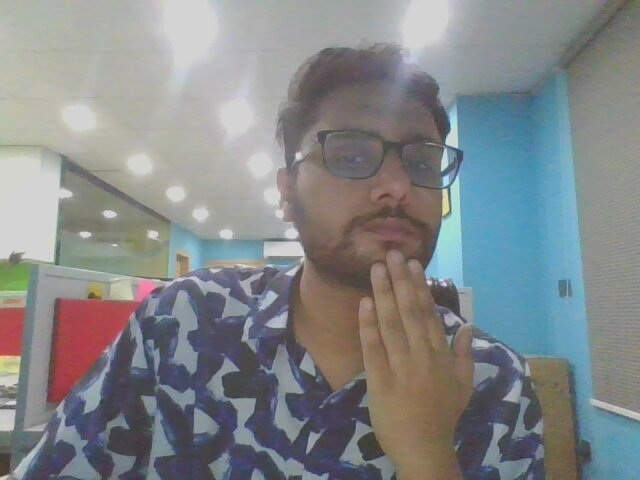thanks: (336, 240, 502, 480)
